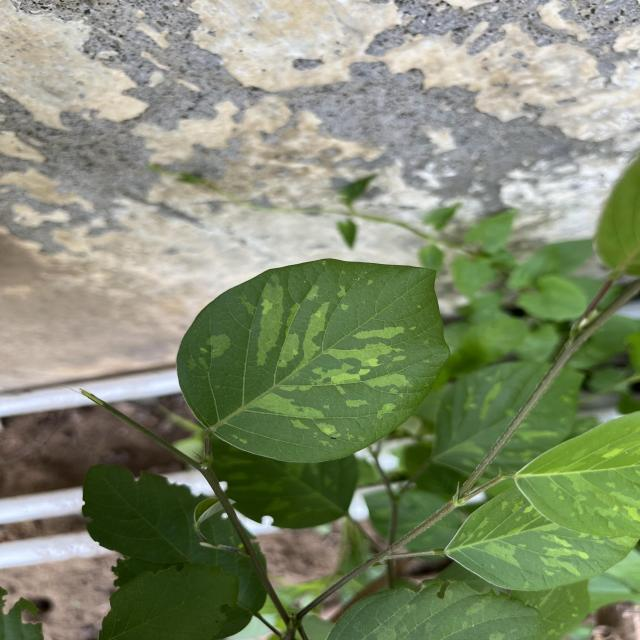Desmodium gangeticum: (173, 256, 454, 467)
